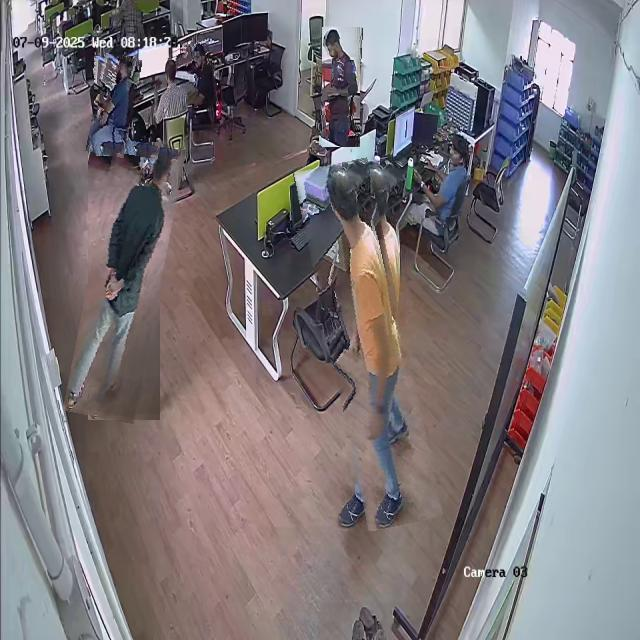person: (312, 159, 424, 530), (76, 140, 173, 422), (89, 55, 138, 157), (413, 133, 470, 218), (321, 27, 361, 147), (149, 58, 185, 124), (185, 41, 218, 108)
